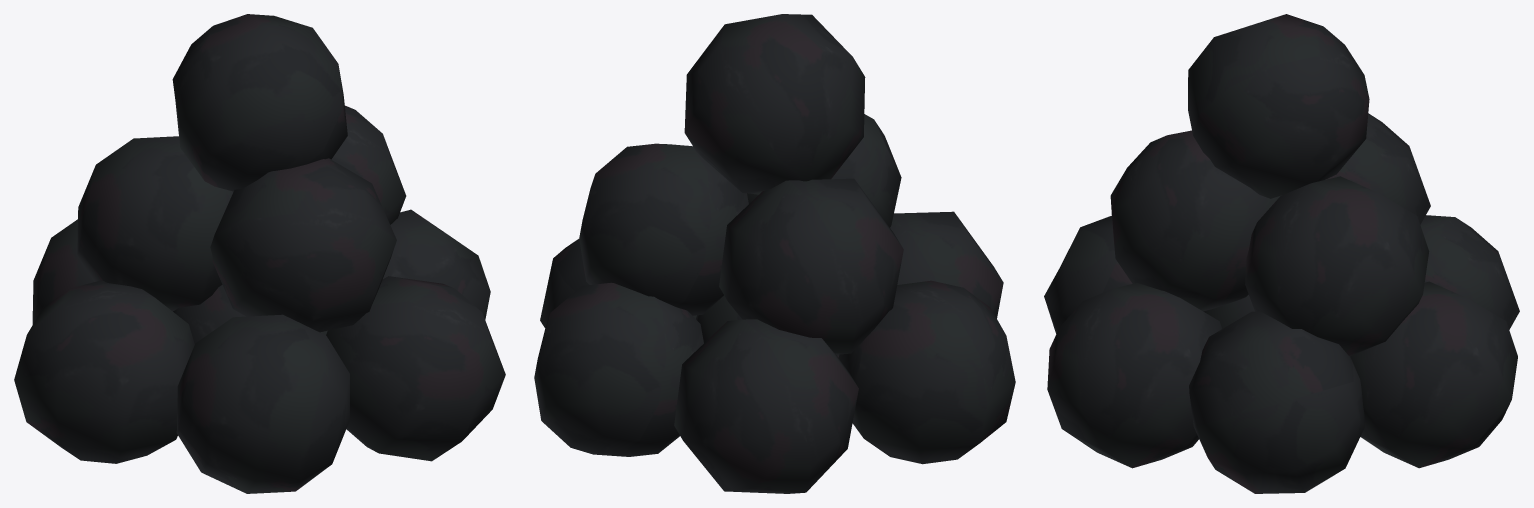
Rendered from SM_PROP_cannonball_pile_battle.fbx.
3 renders of one model, left to right at view 1: azimuth 30°, elevation 25°; view 2: azimuth 150°, elevation 25°; view 3: azimuth 270°, elevation 25°, orthographic.
Parts seen in each view (by area): view 1: SM_PROP_cannonball_pile_battle; view 2: SM_PROP_cannonball_pile_battle; view 3: SM_PROP_cannonball_pile_battle.
Boxes of the visible parts, x1,y1,x2,y2 form: SM_PROP_cannonball_pile_battle: (14, 14, 505, 493); SM_PROP_cannonball_pile_battle: (534, 14, 1015, 493); SM_PROP_cannonball_pile_battle: (1044, 14, 1519, 493).
Size of the model in its own units: 91.06 by 77.97 by 84.73.
